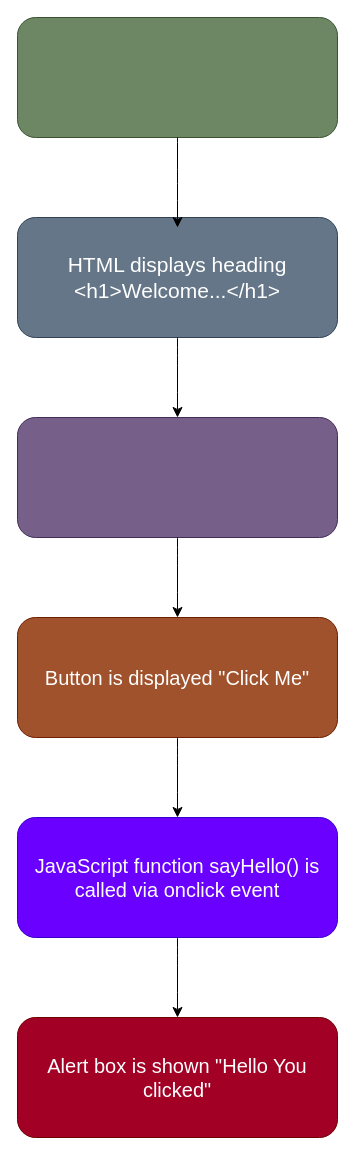
The diagram is 355 pixels wide and 1155 high, and some of its shapes have lost their labels. Each missing label, with the centre of its shape:
"CSS applies styling to page Center text Style button.etc" goes at point 177,477.
"Webpage Loads" goes at point 177,77.
